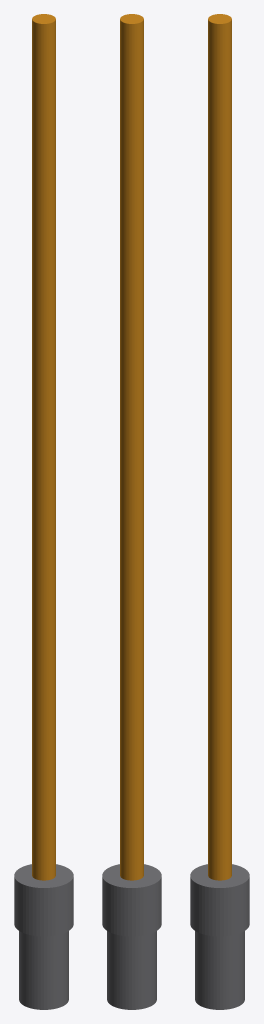
Rendered from ref_cable_sensor_m8.glb.
The picture shows the model from 3 angles, left to right: view 1: azimuth 30°, elevation 25°; view 2: azimuth 150°, elevation 25°; view 3: azimuth 330°, elevation 25°; orthographic projection.
Parts seen in each view (by area): view 1: cable, conector; view 2: cable, conector; view 3: cable, conector.
Part boxes in pixels (bbox=[...]): cable: bbox=[32, 14, 55, 880]; conector: bbox=[14, 864, 73, 1009]; cable: bbox=[120, 14, 143, 880]; conector: bbox=[102, 864, 161, 1009]; cable: bbox=[208, 14, 231, 880]; conector: bbox=[190, 864, 249, 1009].
Size of the model in its own units: 10 by 182 by 10.
